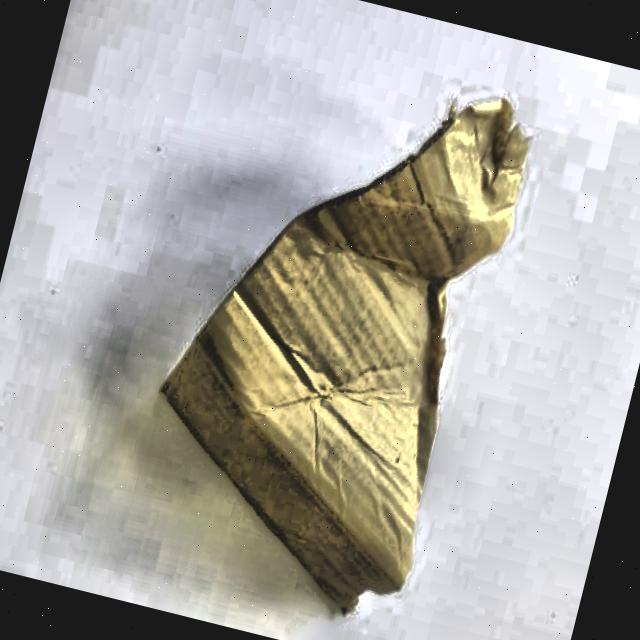cardboard: (112, 32, 542, 633)
